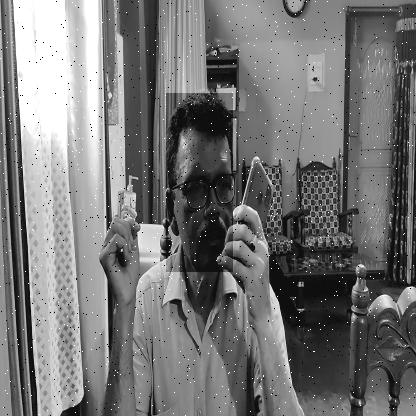Distracted: (166, 93, 233, 272)
